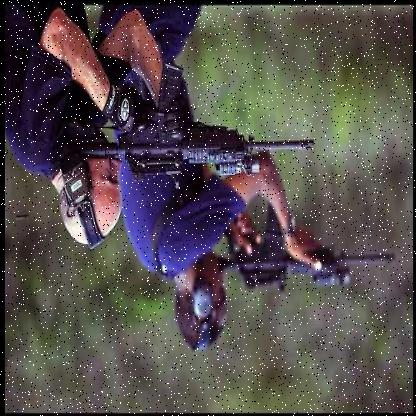rifle: (41, 69, 326, 184), (202, 197, 398, 307)
